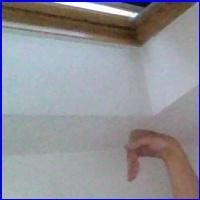del: (121, 131, 185, 187)
